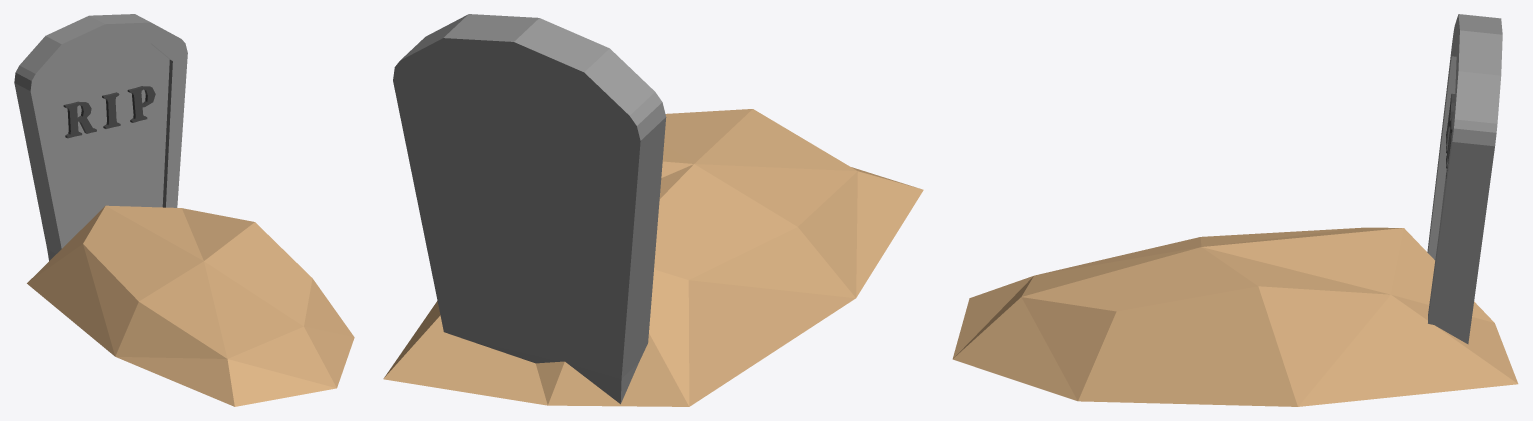
Rendered from Grave_3.fbx.
3 renders of one model, left to right at view 1: azimuth 30°, elevation 25°; view 2: azimuth 150°, elevation 25°; view 3: azimuth 270°, elevation 25°, orthographic. The views are drawn at different scales.
Visible parts, largest first — view 1: Grave_3; view 2: Grave_3; view 3: Grave_3.
Part boxes in pixels (x1,y1,x2,y2): Grave_3: (14, 14, 354, 406); Grave_3: (383, 14, 923, 406); Grave_3: (952, 14, 1518, 406).
Size of the model in its own units: 203 by 364 by 216.
